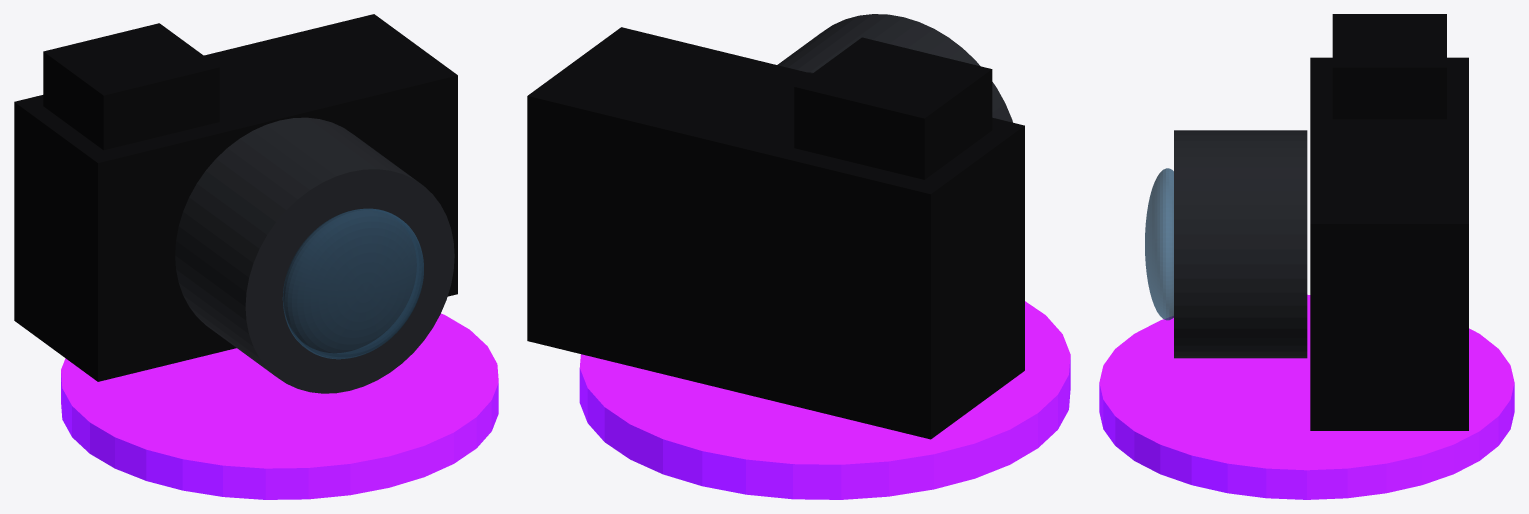
File: modelling_camera.dae
3 renders of one model, left to right at view 1: azimuth 30°, elevation 25°; view 2: azimuth 150°, elevation 25°; view 3: azimuth 270°, elevation 25°, orthographic. The views are drawn at different scales.
Visible parts, largest first — view 1: 05_01_Popular_Modelling_Camera_part_01, 05_01_Popular_Modelling_Camera_part_02, 05_01_Popular_Modelling_Camera_ROOT_base, 05_01_Popular_Modelling_Camera_part_04, 05_01_Popular_Modelling_Camera_part_03; view 2: 05_01_Popular_Modelling_Camera_part_01, 05_01_Popular_Modelling_Camera_ROOT_base, 05_01_Popular_Modelling_Camera_part_04, 05_01_Popular_Modelling_Camera_part_02; view 3: 05_01_Popular_Modelling_Camera_part_01, 05_01_Popular_Modelling_Camera_ROOT_base, 05_01_Popular_Modelling_Camera_part_02, 05_01_Popular_Modelling_Camera_part_04, 05_01_Popular_Modelling_Camera_part_03.
Boxes of the visible parts, x1,y1,x2,y2 form: 05_01_Popular_Modelling_Camera_part_01: [14, 14, 457, 381]; 05_01_Popular_Modelling_Camera_part_02: [175, 117, 454, 393]; 05_01_Popular_Modelling_Camera_ROOT_base: [61, 313, 498, 499]; 05_01_Popular_Modelling_Camera_part_04: [43, 23, 219, 150]; 05_01_Popular_Modelling_Camera_part_03: [282, 208, 423, 359]; 05_01_Popular_Modelling_Camera_part_01: [527, 27, 1024, 439]; 05_01_Popular_Modelling_Camera_ROOT_base: [579, 301, 1070, 499]; 05_01_Popular_Modelling_Camera_part_04: [794, 37, 992, 179]; 05_01_Popular_Modelling_Camera_part_02: [777, 14, 1012, 122]; 05_01_Popular_Modelling_Camera_part_01: [1310, 57, 1468, 430]; 05_01_Popular_Modelling_Camera_ROOT_base: [1099, 294, 1514, 499]; 05_01_Popular_Modelling_Camera_part_02: [1174, 130, 1307, 358]; 05_01_Popular_Modelling_Camera_part_04: [1332, 14, 1446, 119]; 05_01_Popular_Modelling_Camera_part_03: [1145, 168, 1173, 320].
Bounding box in the file's own units: 0.76 × 0.6526 × 0.76.
